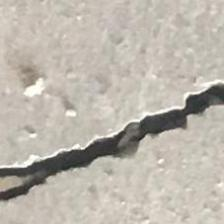Crack: (0, 84, 224, 214)
